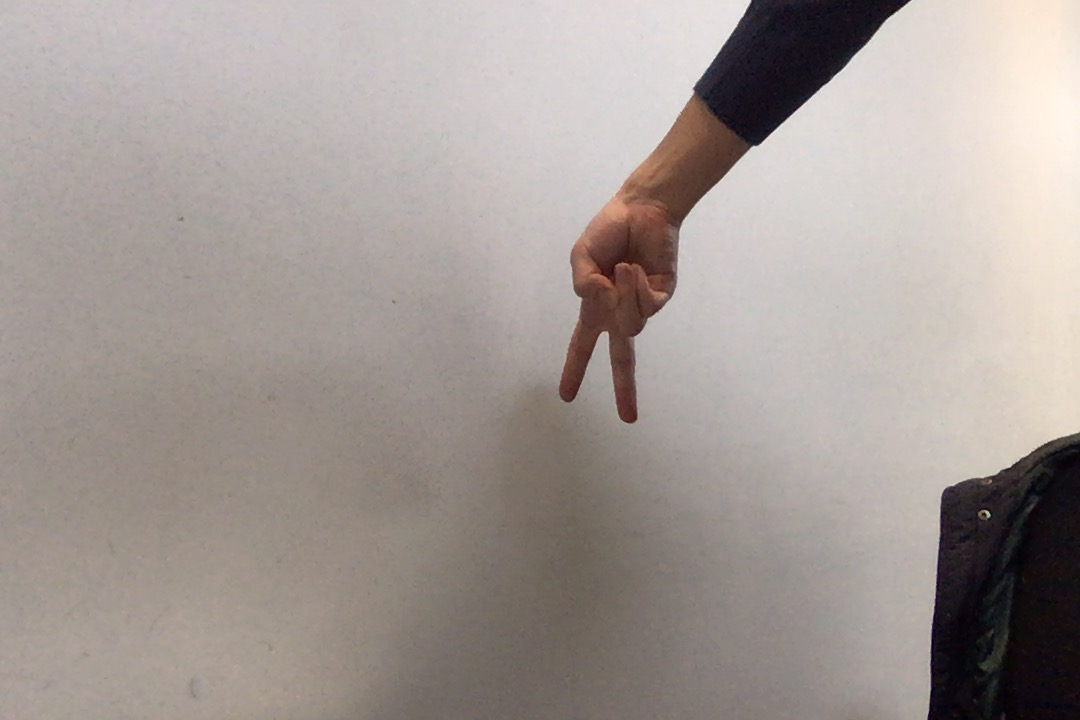peacesign: (553, 195, 682, 430)
